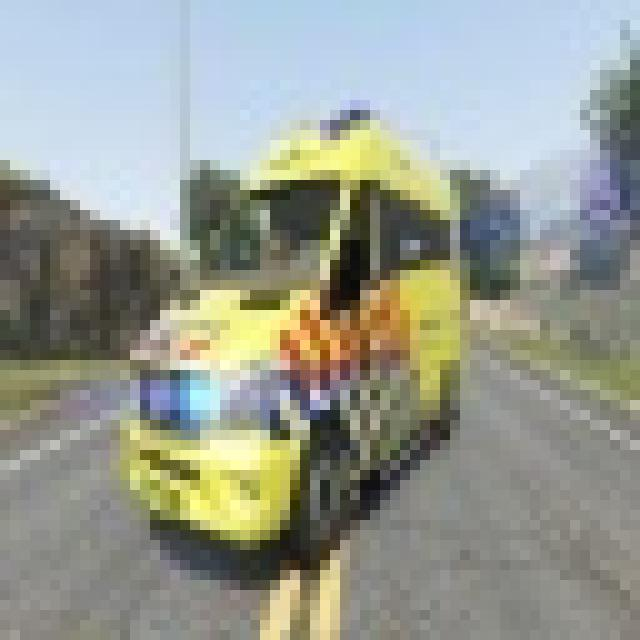Ambulance: (110, 100, 460, 560)
